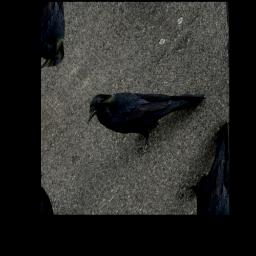Crow: (79, 33, 208, 179)
